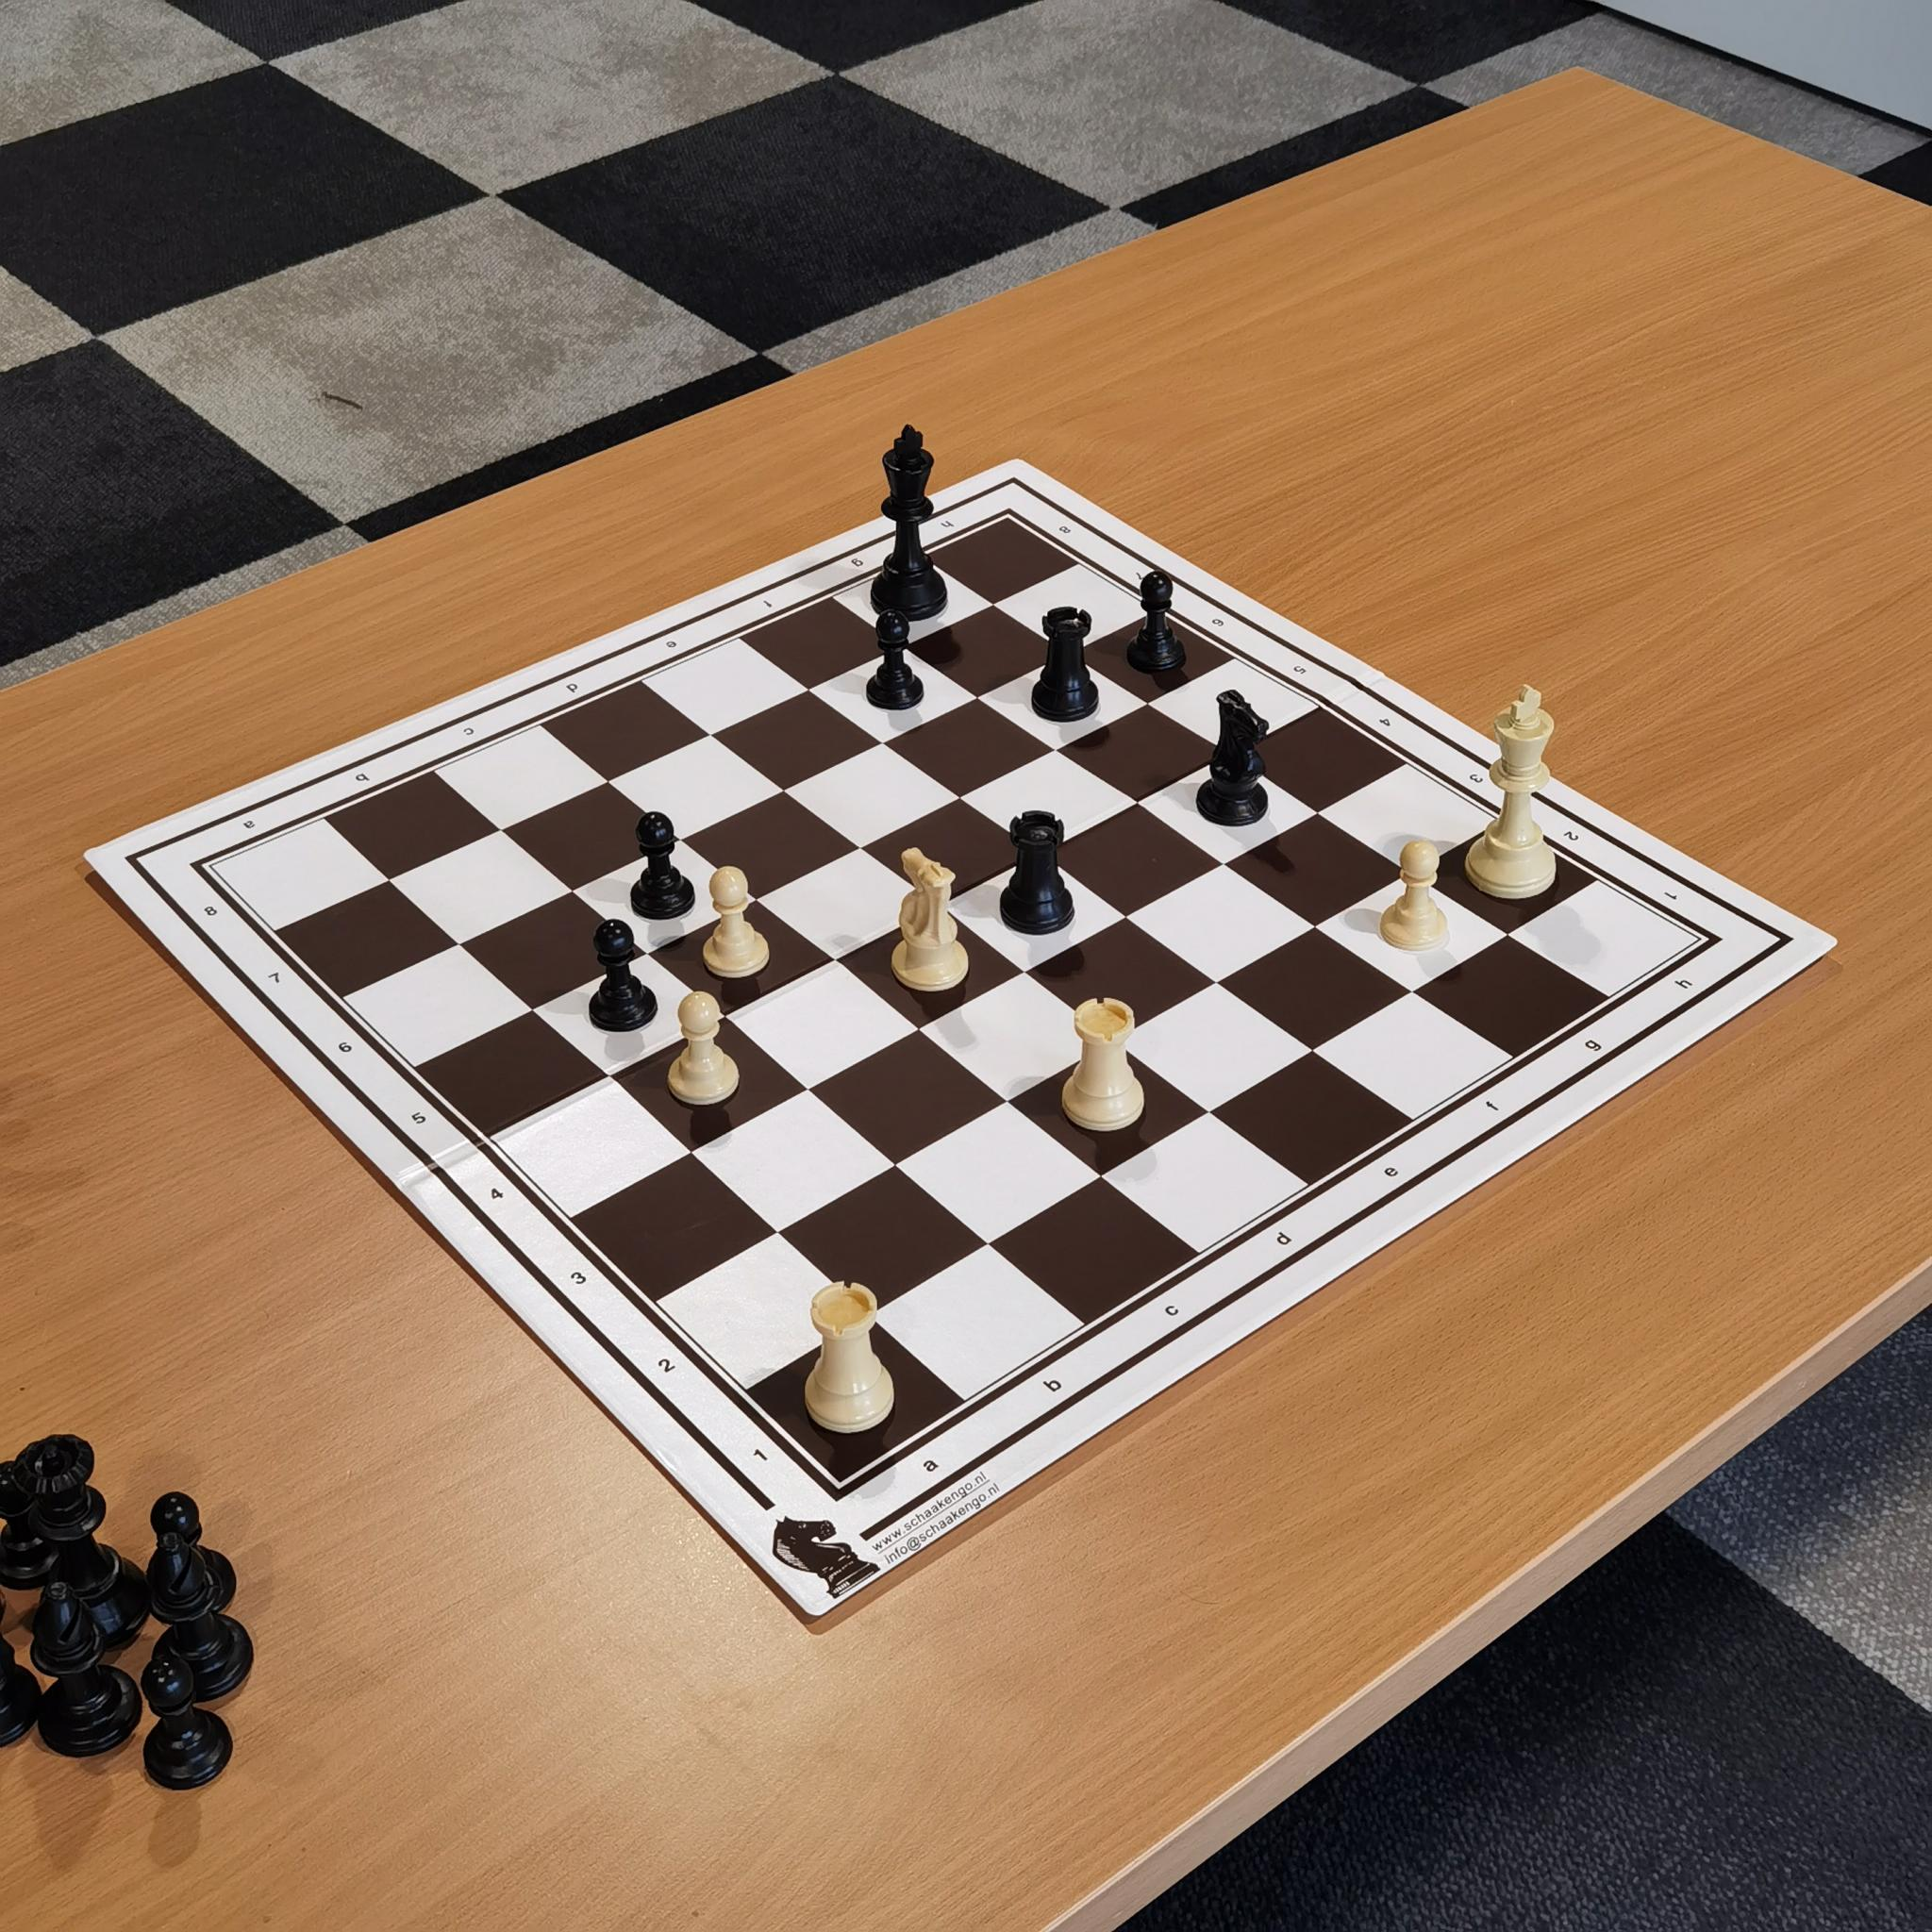corners: (821, 1470, 870, 1530), (1677, 922, 1737, 962), (180, 849, 237, 890), (985, 506, 1030, 541)
eight: (193, 890, 234, 932), (1053, 508, 1090, 547)
one: (732, 1422, 786, 1484), (1658, 876, 1693, 913)
